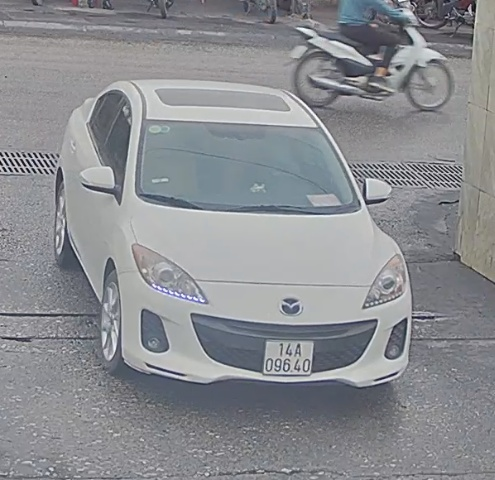vehicle plate: (258, 330, 319, 387)
